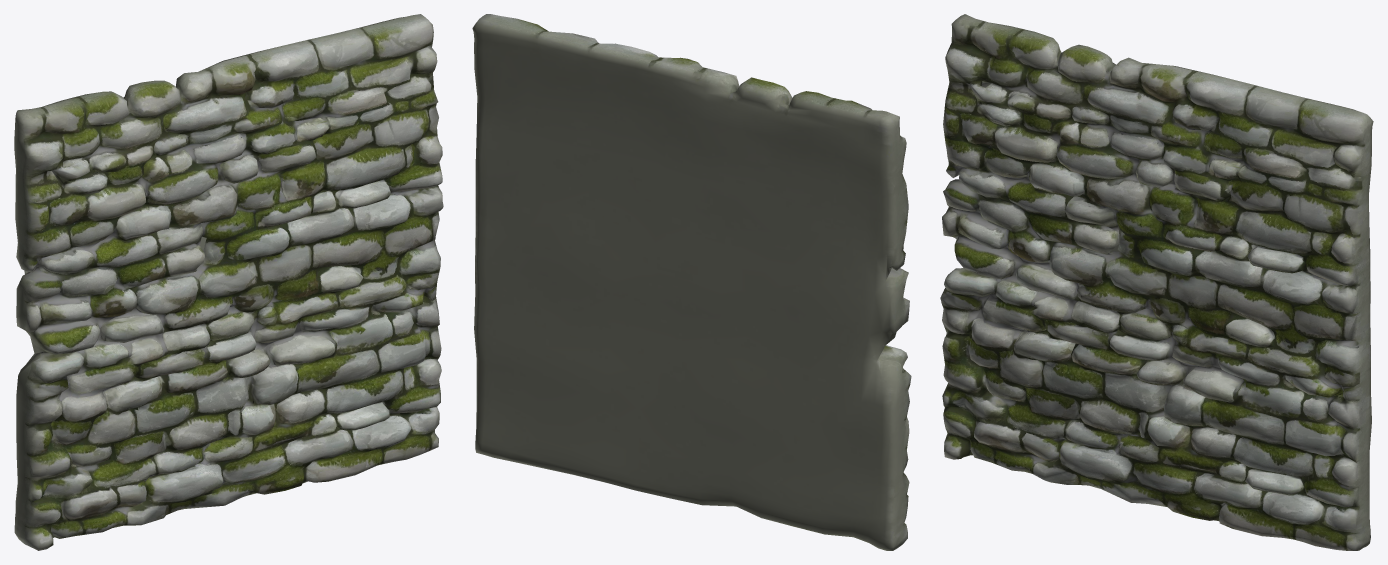
File: wall_mossy_tripo.glb
3 views of the same model, side by side, from view 1: azimuth 30°, elevation 25°; view 2: azimuth 150°, elevation 25°; view 3: azimuth 330°, elevation 25° (orthographic).
Parts seen in each view (by area): view 1: stone wall 3d model.001; view 2: stone wall 3d model.001; view 3: stone wall 3d model.001.
Part boxes in pixels (x1,y1,x2,y2): stone wall 3d model.001: [14, 14, 443, 550]; stone wall 3d model.001: [472, 14, 911, 550]; stone wall 3d model.001: [940, 14, 1373, 550].
Size of the model in its own units: 0.9778 by 0.9718 by 0.1198.
Materials: 1 (1 with a texture image).
